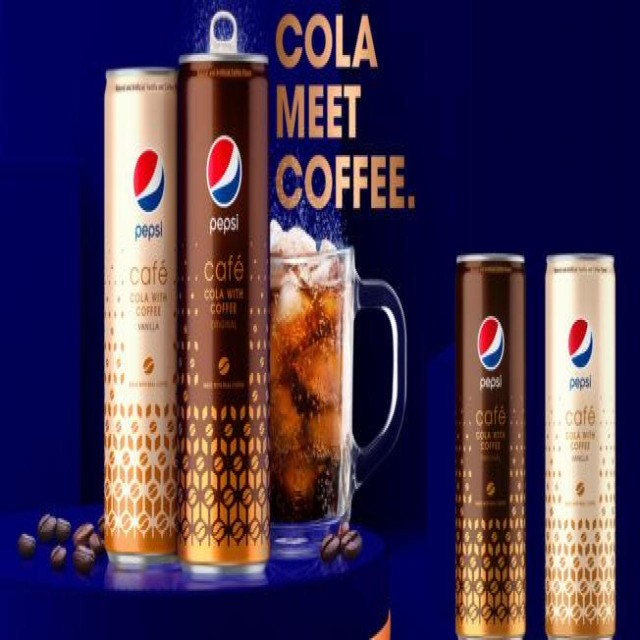pepsi: (204, 130, 244, 210), (134, 146, 167, 215), (476, 311, 505, 369), (567, 311, 594, 370)
